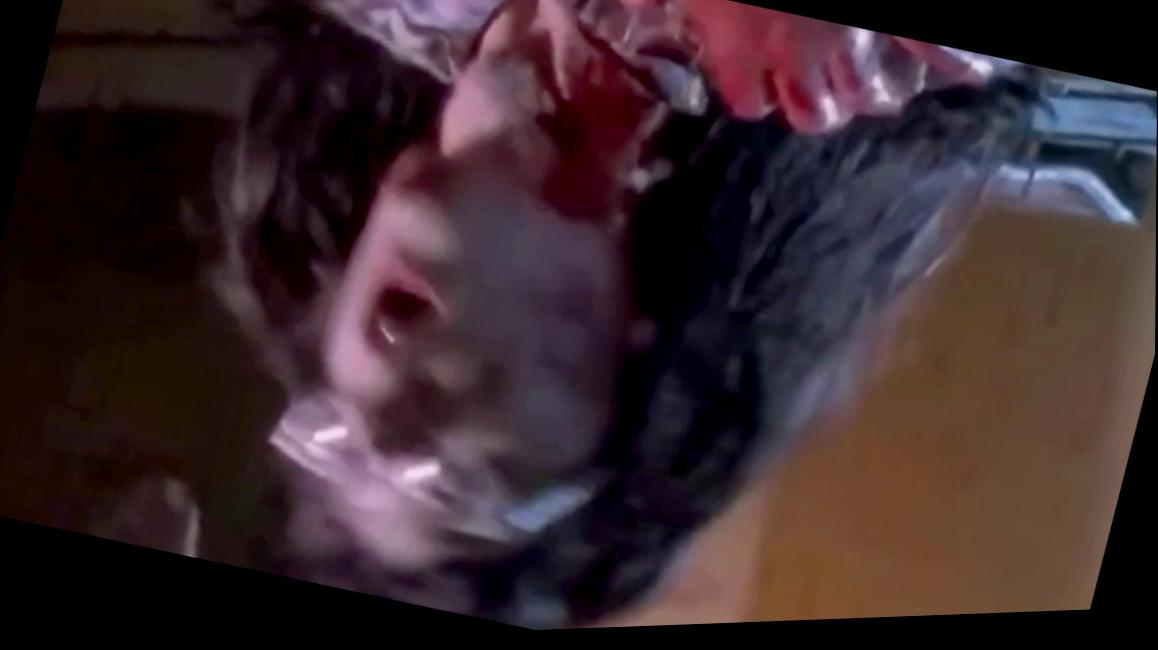Fire: (439, 0, 666, 222), (682, 0, 865, 140), (896, 43, 988, 91)
